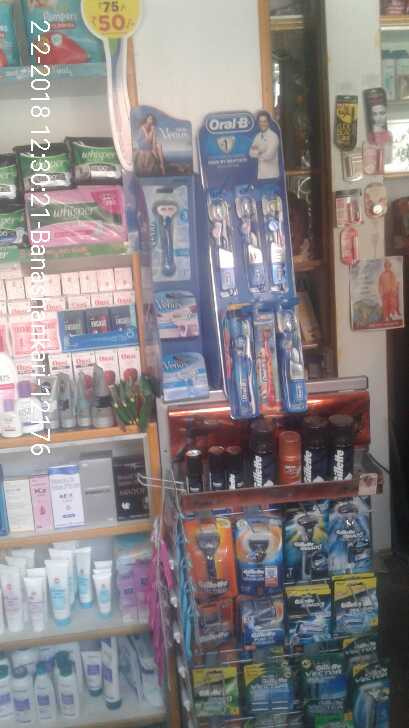beauty: (178, 500, 386, 728), (176, 413, 368, 486), (146, 176, 203, 402)
pharmacy: (206, 197, 314, 412)
